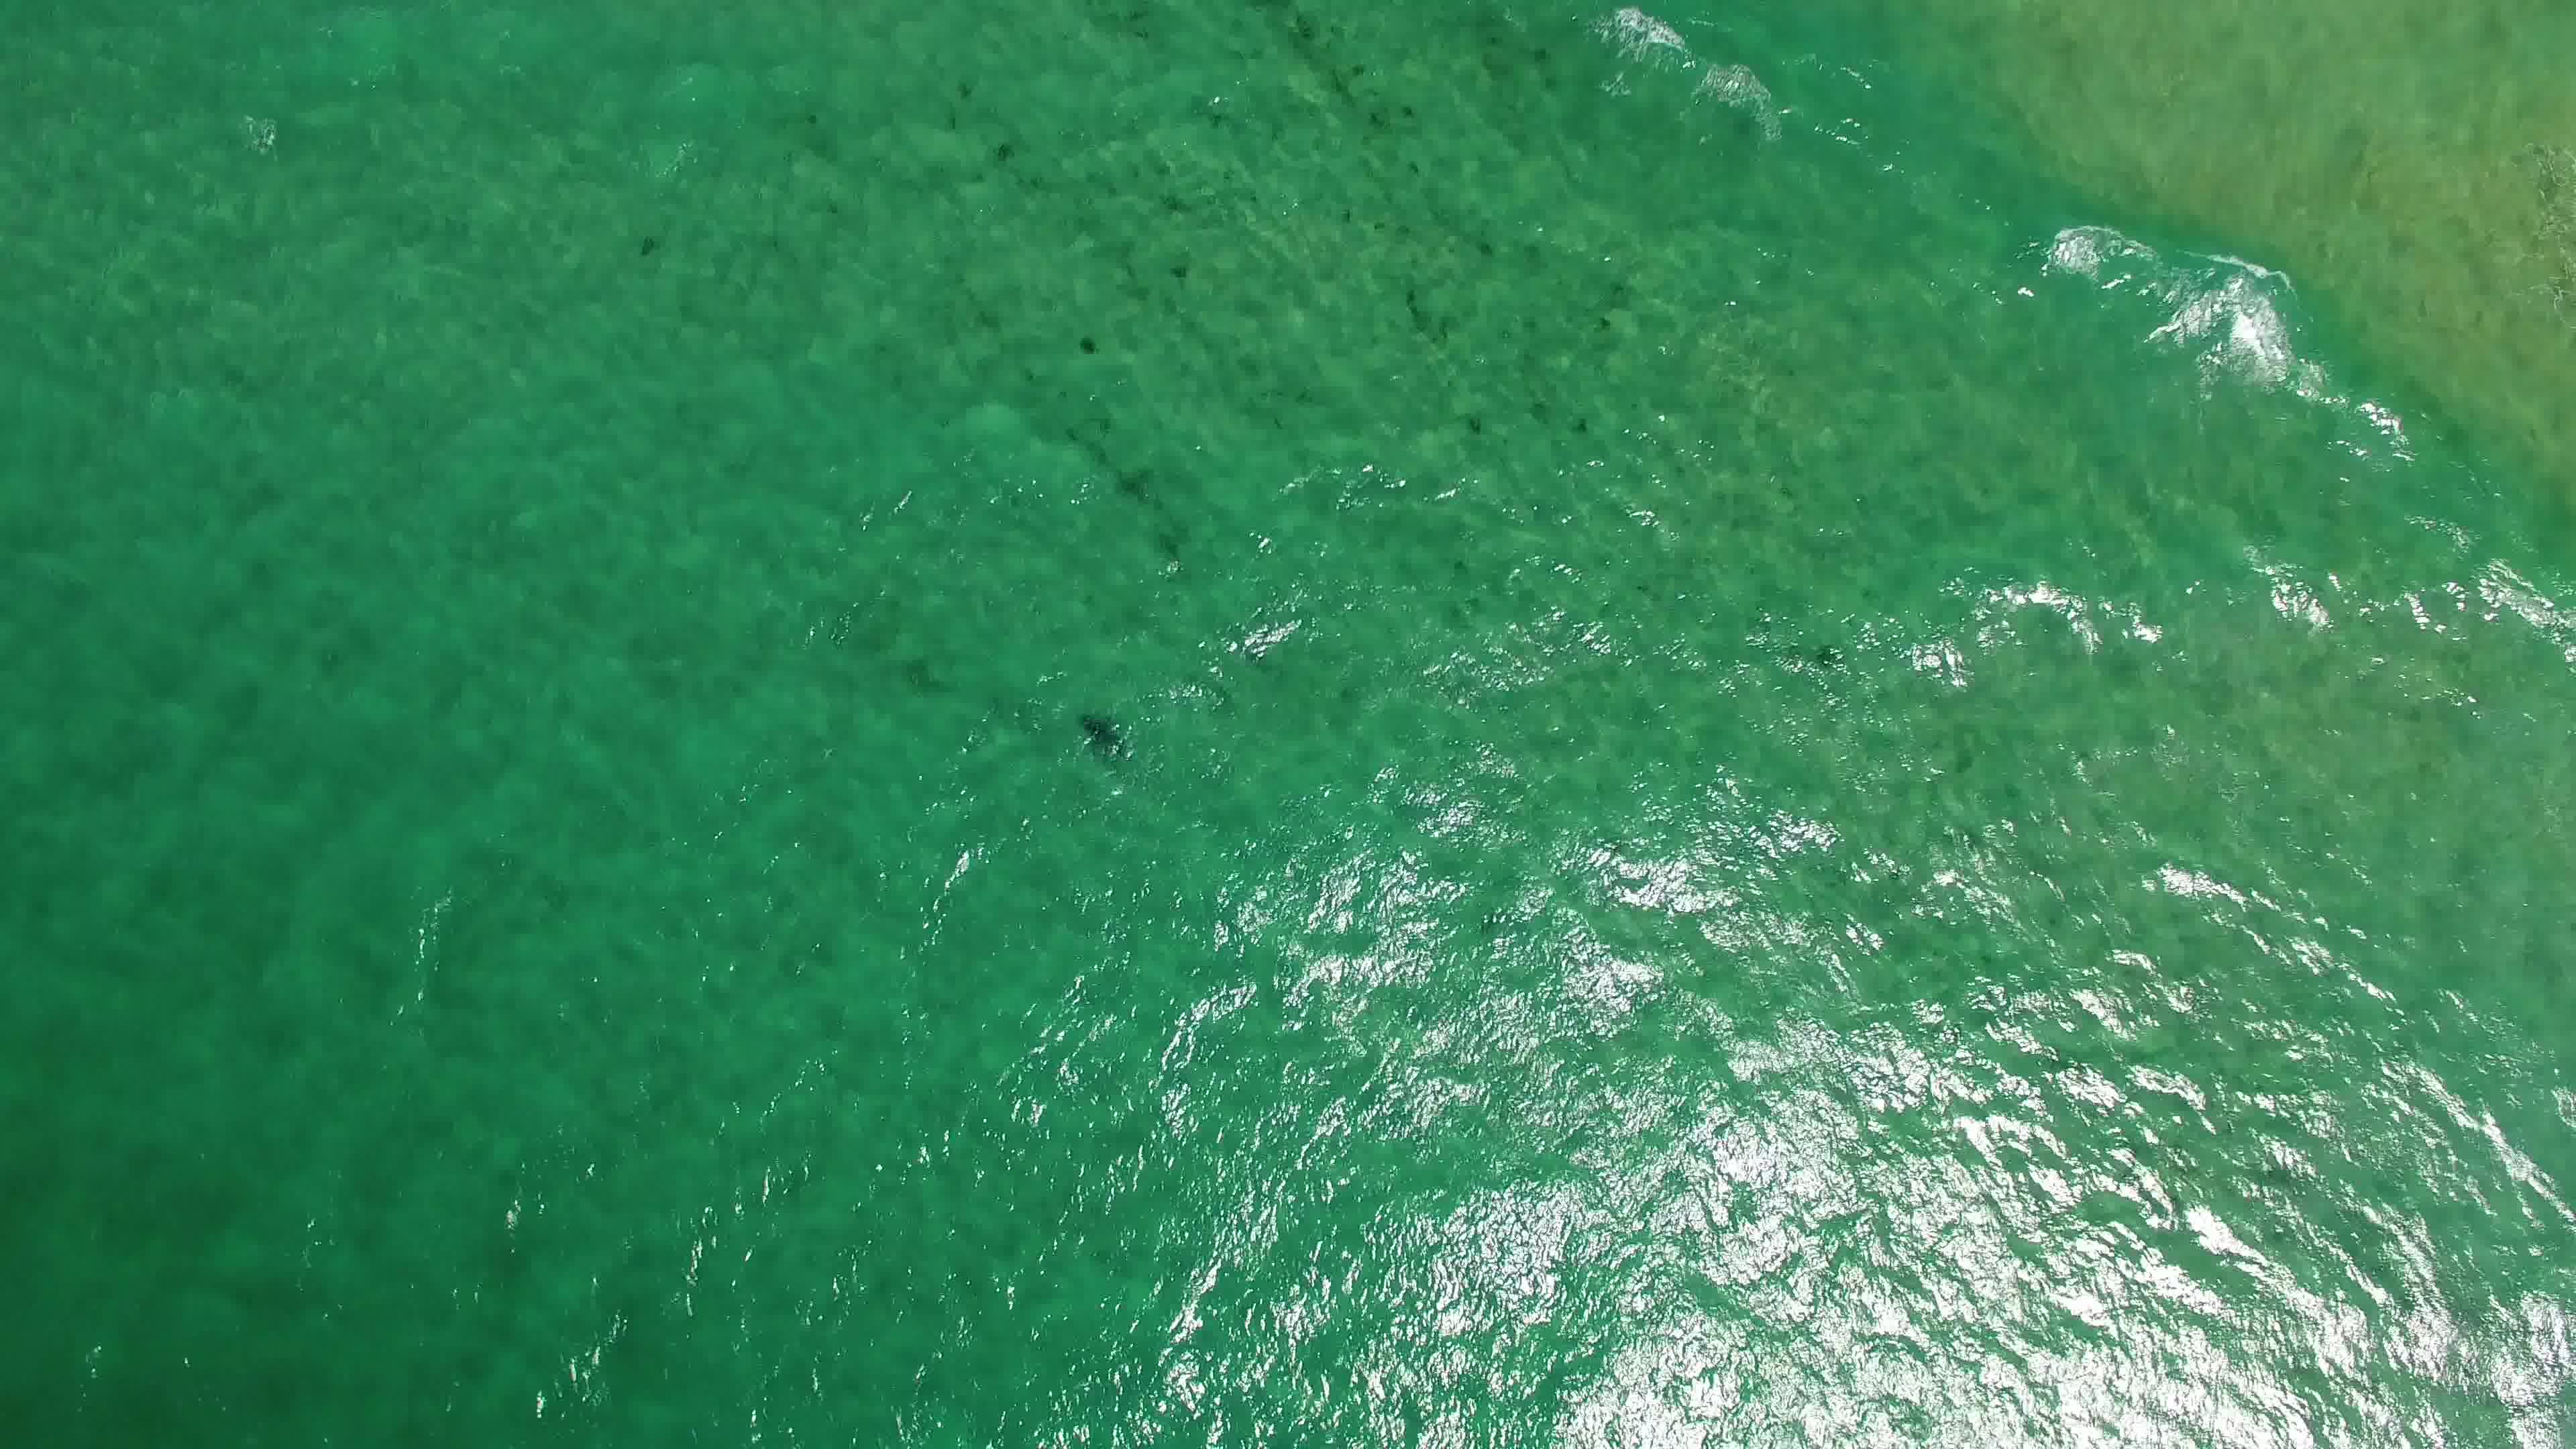shark: (1074, 706, 1145, 768)
